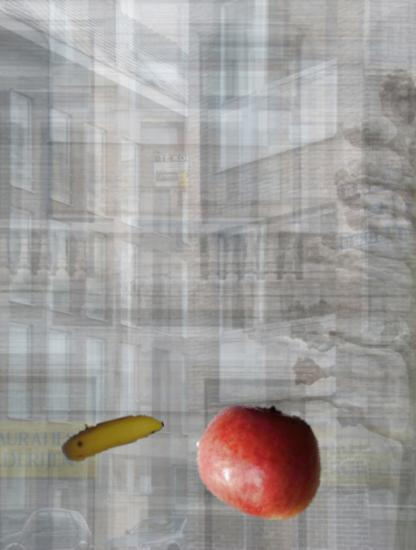Apple: (195, 395, 326, 526)
Banana: (60, 383, 165, 488)
